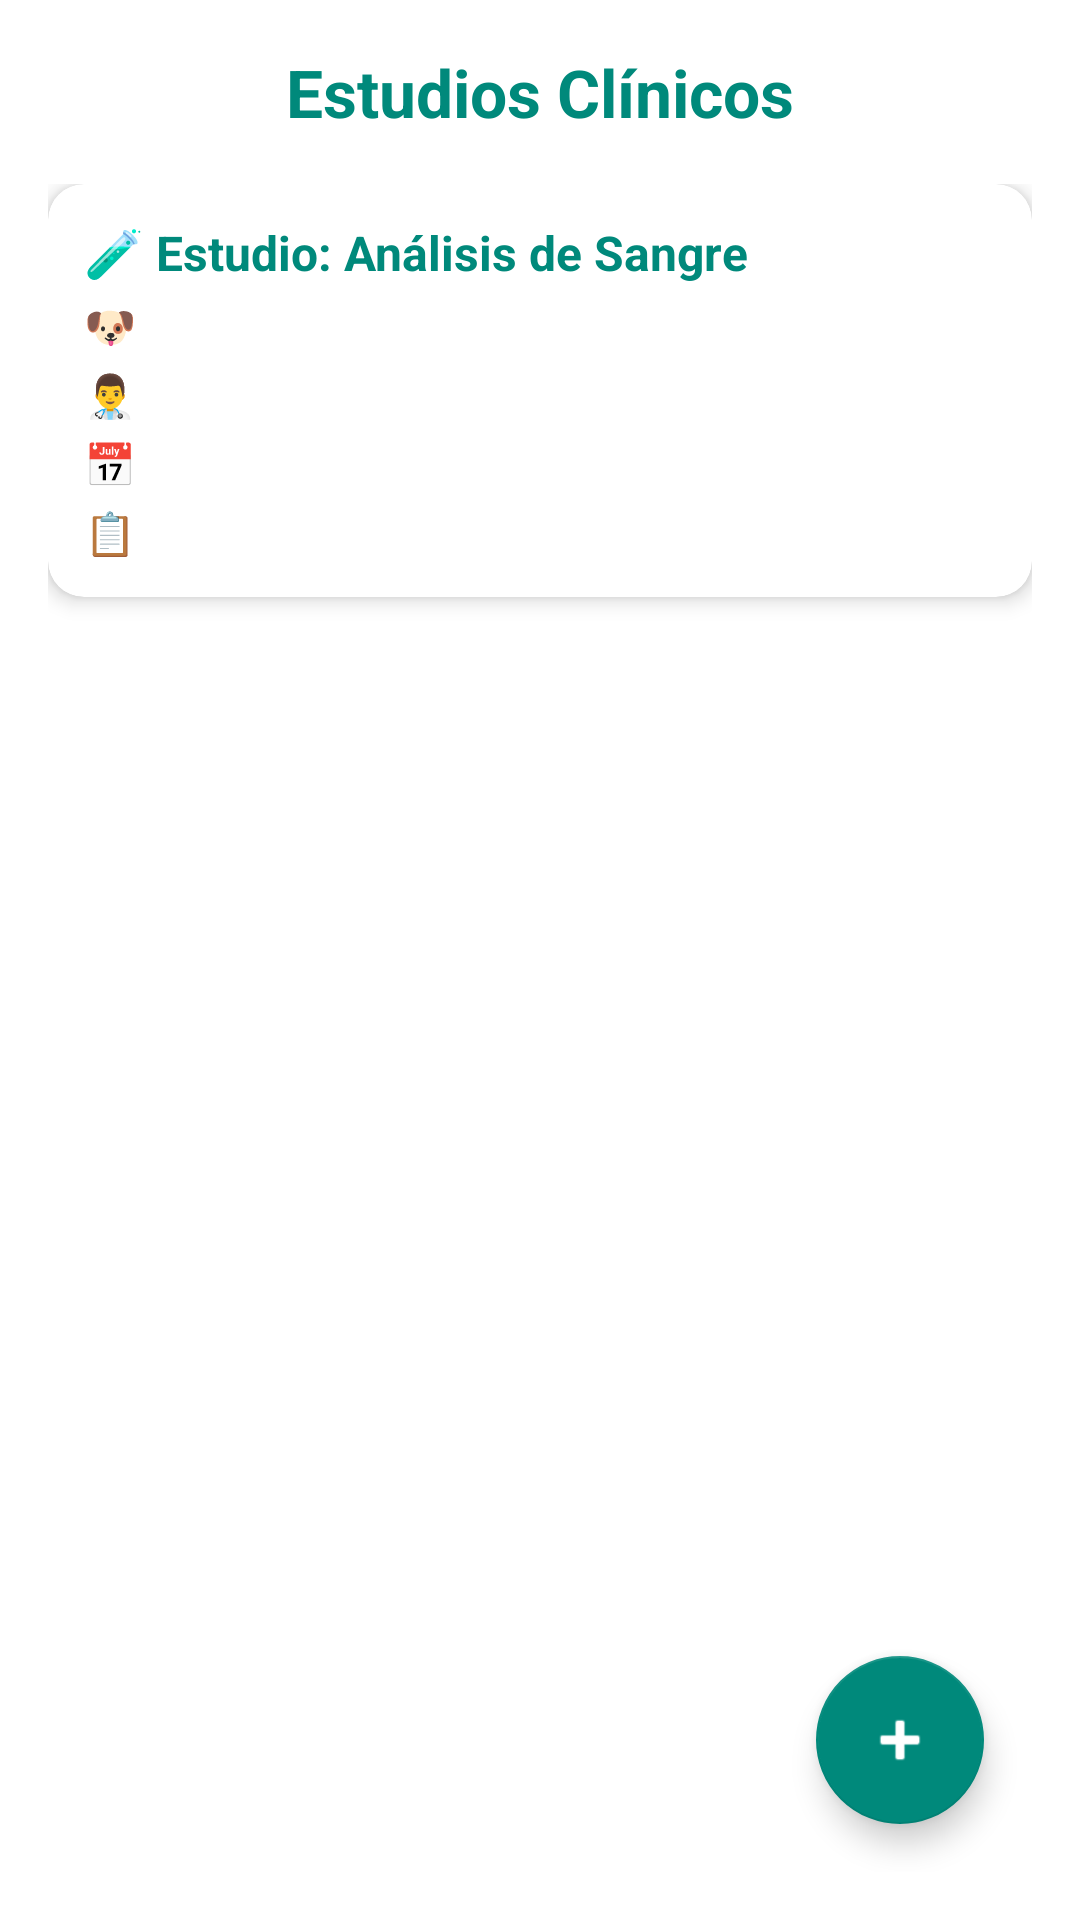

Screen size 1080w x 1920h. Icon name, then its center in pixels as [x,y]:
Agregar nuevo estudio clínico: [900,1740]
